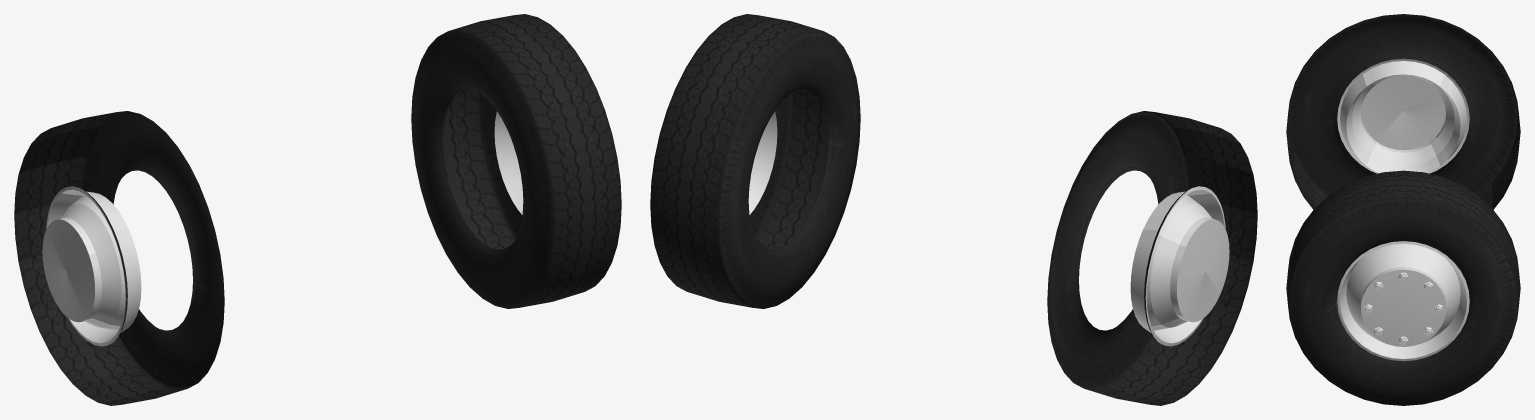
File: back_wheels1.glb
The picture shows the model from 3 angles, left to right: view 1: azimuth 30°, elevation 25°; view 2: azimuth 150°, elevation 25°; view 3: azimuth 270°, elevation 25°; orthographic projection. The views are drawn at different scales.
Parts seen in each view (by area): view 1: Object021_Material #276_0.001; view 2: Object021_Material #276_0.001; view 3: Object021_Material #276_0.001.
Boxes of the visible parts, x1,y1,x2,y2 form: Object021_Material #276_0.001: (14, 14, 621, 405); Object021_Material #276_0.001: (650, 14, 1257, 405); Object021_Material #276_0.001: (1286, 14, 1520, 405).
Bounding box in the file's own units: 2.25 × 1.11 × 1.11.
Materials: 8 (4 with a texture image).
